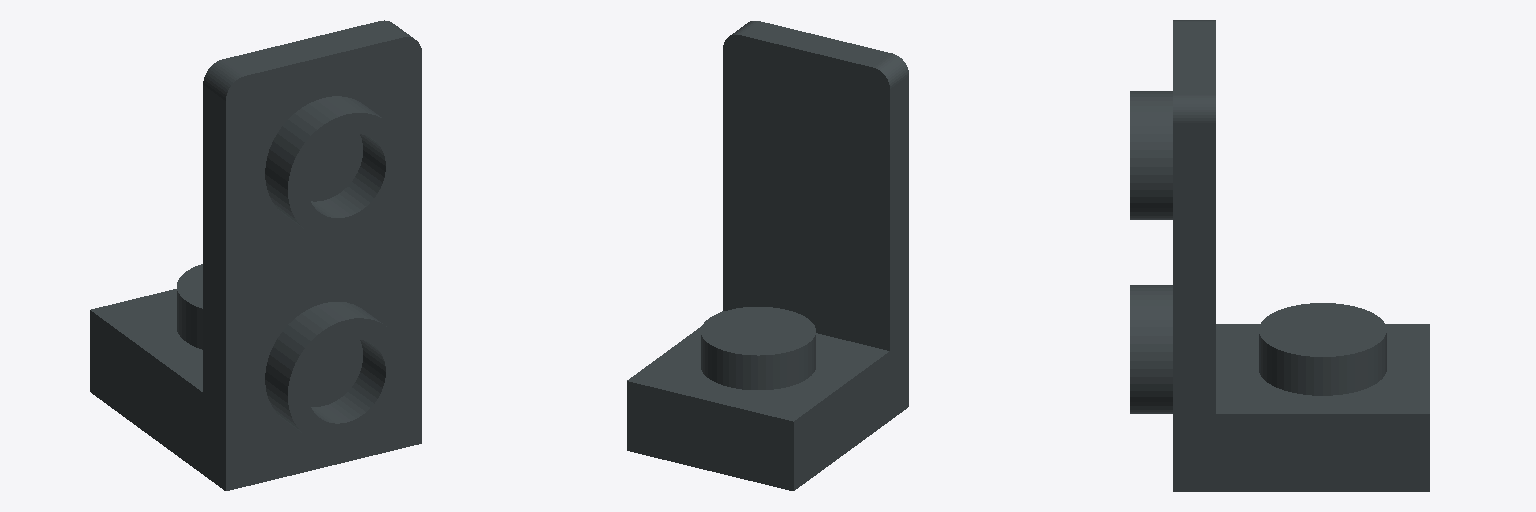
The robot description file, URDF, robot "73825__dark_bluish_gray":
<?xml version="1.0"?>
<robot name="73825__dark_bluish_gray">
  <link name="73825__dark_bluish_gray">
    <inertial>
      <origin xyz="-0.000000 -0.002534 0.003202" rpy="0 0 0"/>
      <mass value="0.001012"/>
      <inertia ixx="2.563535264e-08" ixy="4.699480847e-25" ixz="-1.144776031e-25" iyy="2.274255469e-08" iyz="4.961399748e-09" izz="1.313925995e-08"/>
    </inertial>
    <visual>
      <geometry>
        <mesh filename="../meshes/visual/73825.obj" scale="1 1 1"/>
      </geometry>
      <material name="73825__dark_bluish_gray_color">
        <color rgba="0.320 0.350 0.360 1.000"/>
      </material>
    </visual>
    <collision>
      <geometry>
        <mesh filename="../meshes/collision/73825_hull.obj" scale="1 1 1"/>
      </geometry>
    </collision>
  </link>
</robot>

--- Render facts (derived) ---
3 views of the same robot in one strip: view 1: azimuth 30°, elevation 25°; view 2: azimuth 150°, elevation 25°; view 3: azimuth 270°, elevation 25° (orthographic).
Model 73825__dark_bluish_gray with 1 links and 0 joints (none), rooted at 73825__dark_bluish_gray, posed all joints at 0.
Links seen in each view (by area): view 1: 73825__dark_bluish_gray; view 2: 73825__dark_bluish_gray; view 3: 73825__dark_bluish_gray.
Link boxes in pixels (x1,y1,x2,y2): 73825__dark_bluish_gray: (90, 20, 421, 490); 73825__dark_bluish_gray: (627, 21, 908, 490); 73825__dark_bluish_gray: (1130, 20, 1429, 491).
Size in the robot's own frame: 0.008 by 0.0112 by 0.016 metres.
1 mesh visuals loaded from 1 distinct referenced files (1 OBJ).
